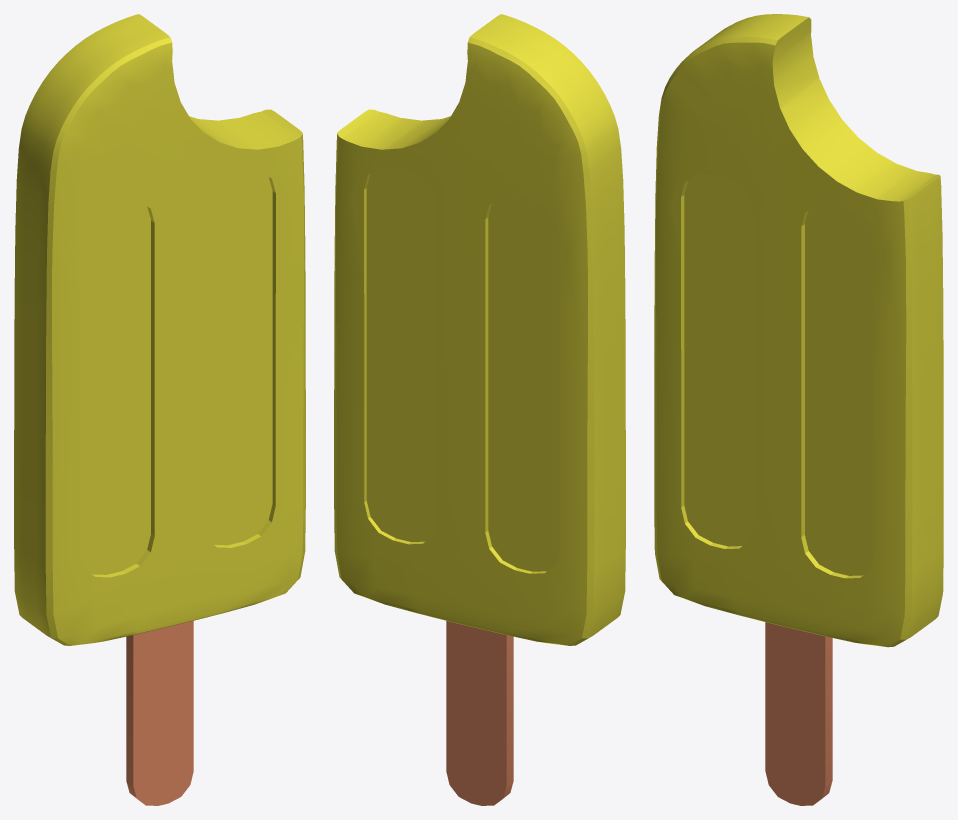
Rendered from popsicle.glb.
3 renders of one model, left to right at view 1: azimuth 30°, elevation 25°; view 2: azimuth 150°, elevation 25°; view 3: azimuth 330°, elevation 25°, orthographic.
Visible parts, largest first — view 1: Cube; view 2: Cube; view 3: Cube.
Part boxes in pixels (x1,y1,x2,y2): Cube: (14,14,305,805); Cube: (334,14,625,805); Cube: (654,14,943,805).
Size of the model in its own units: 2 by 5.69 by 0.5355.
